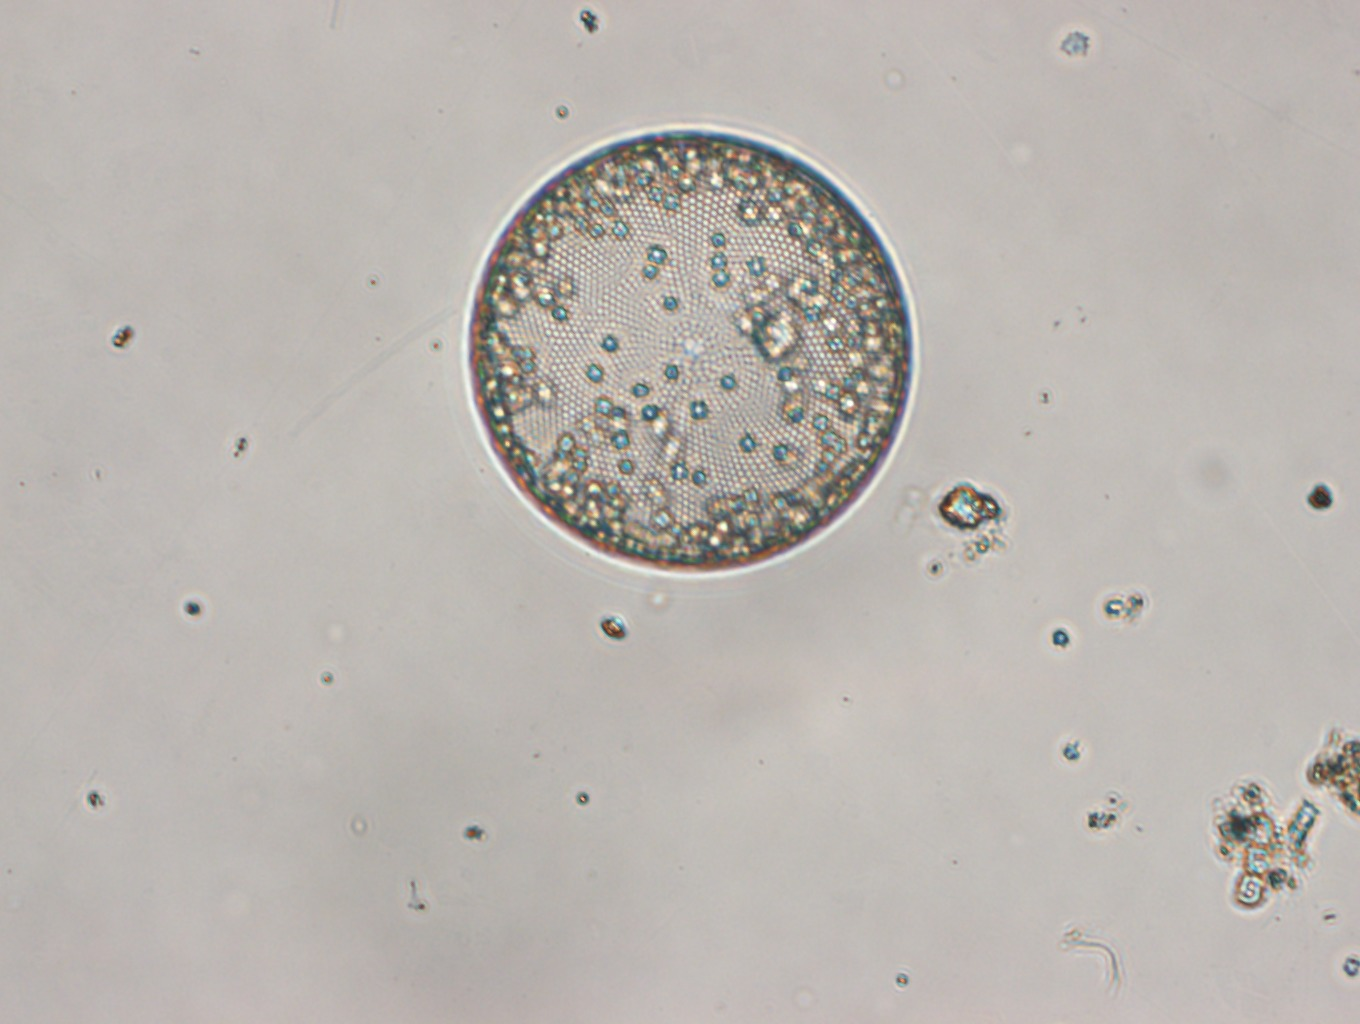coscinodiscus: (463, 128, 921, 579)
